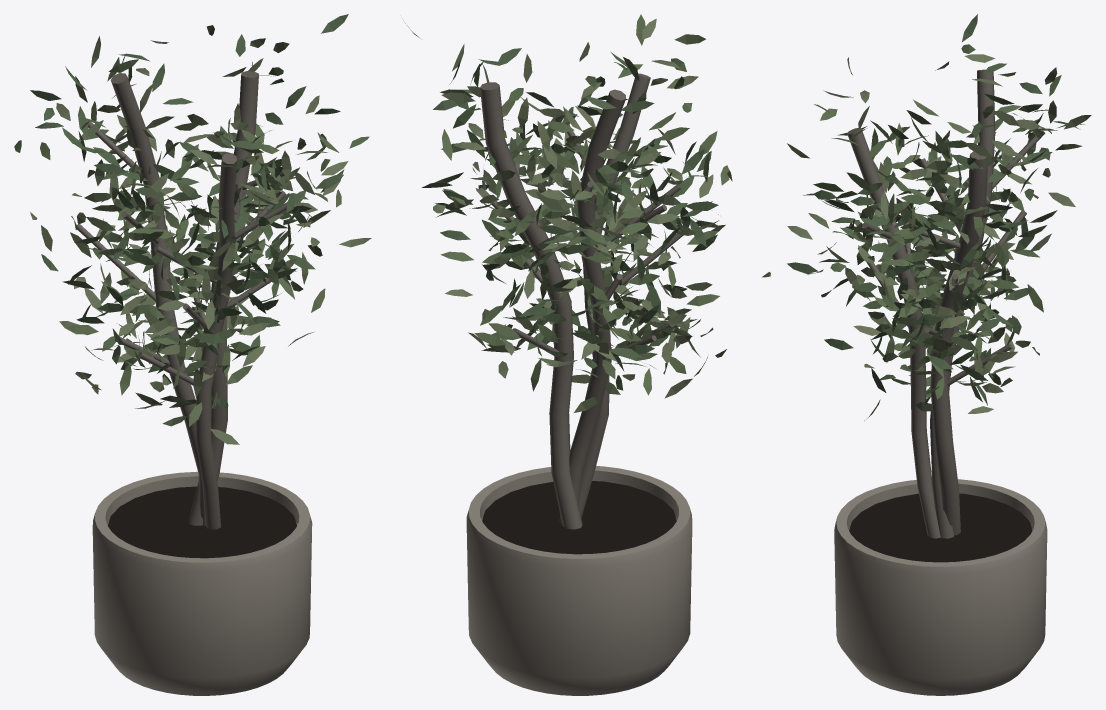
Rendered from living_plant_olive.gltf.
3 views of the same model, side by side, from view 1: azimuth 30°, elevation 25°; view 2: azimuth 150°, elevation 25°; view 3: azimuth 270°, elevation 25° (orthographic). The views are drawn at different scales.
Visible parts, largest first — view 1: LivingPlantOlive_Planter, LivingPlantOlive_LeavesNoCollide2, LivingPlantOlive_LeavesNoCollide1, LivingPlantOlive_LeavesNoCollide0, LivingPlantOlive_Soil, LivingPlantOlive_Trunk2, LivingPlantOlive_Trunk1, LivingPlantOlive_Trunk0, LivingPlantOlive; view 2: LivingPlantOlive_Planter, LivingPlantOlive_LeavesNoCollide2, LivingPlantOlive_LeavesNoCollide0, LivingPlantOlive_LeavesNoCollide1, LivingPlantOlive_Soil, LivingPlantOlive_Trunk0, LivingPlantOlive_Trunk1, LivingPlantOlive_Trunk2, LivingPlantOlive; view 3: LivingPlantOlive_Planter, LivingPlantOlive_LeavesNoCollide0, LivingPlantOlive_LeavesNoCollide2, LivingPlantOlive_LeavesNoCollide1, LivingPlantOlive_Soil, LivingPlantOlive_Trunk0, LivingPlantOlive_Trunk2, LivingPlantOlive_Trunk1, LivingPlantOlive.
Boxes of the visible parts, box(x1,y1,x2,y2) form: LivingPlantOlive_Planter: box(92, 471, 312, 695); LivingPlantOlive_LeavesNoCollide2: box(30, 36, 371, 444); LivingPlantOlive_LeavesNoCollide1: box(30, 14, 348, 408); LivingPlantOlive_LeavesNoCollide0: box(14, 59, 369, 426); LivingPlantOlive_Soil: box(108, 486, 296, 558); LivingPlantOlive_Trunk2: box(195, 153, 236, 529); LivingPlantOlive_Trunk1: box(110, 73, 205, 525); LivingPlantOlive_Trunk0: box(188, 71, 258, 525); LivingPlantOlive: box(77, 120, 287, 385); LivingPlantOlive_Planter: box(466, 466, 692, 695); LivingPlantOlive_LeavesNoCollide2: box(422, 18, 726, 412); LivingPlantOlive_LeavesNoCollide0: box(434, 14, 732, 395); LivingPlantOlive_LeavesNoCollide1: box(405, 23, 725, 391); LivingPlantOlive_Soil: box(482, 481, 676, 554); LivingPlantOlive_Trunk0: box(480, 82, 582, 529); LivingPlantOlive_Trunk1: box(559, 89, 625, 523); LivingPlantOlive_Trunk2: box(579, 73, 650, 517); LivingPlantOlive: box(479, 131, 683, 359); LivingPlantOlive_Planter: box(834, 479, 1047, 695); LivingPlantOlive_LeavesNoCollide0: box(803, 44, 1080, 405); LivingPlantOlive_LeavesNoCollide2: box(762, 54, 1091, 420); LivingPlantOlive_LeavesNoCollide1: box(787, 14, 1061, 405); LivingPlantOlive_Soil: box(849, 493, 1032, 562); LivingPlantOlive_Trunk0: box(930, 151, 987, 535); LivingPlantOlive_Trunk2: box(847, 127, 940, 538); LivingPlantOlive_Trunk1: box(930, 69, 995, 538); LivingPlantOlive: box(857, 129, 1045, 385).
Size of the model in its own units: 1.19 by 2.38 by 1.2.
